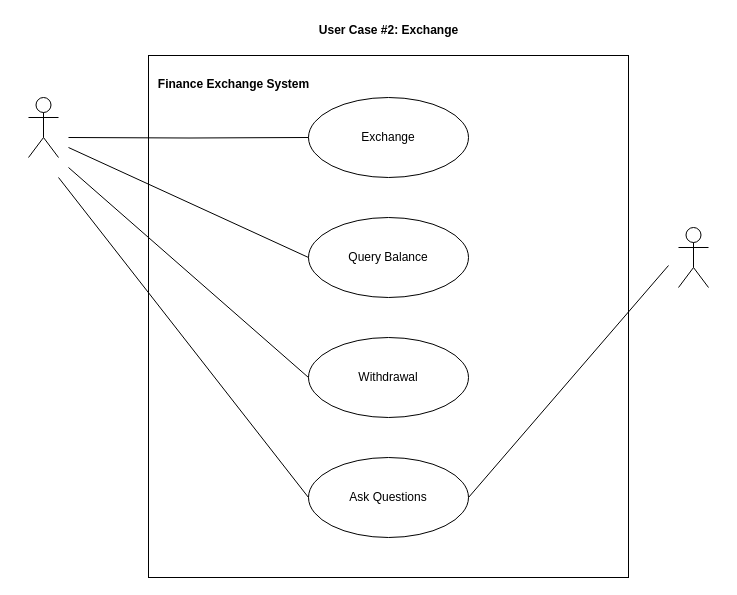
Some shapes in this 737 by 595 pixel diagram are drawn without their labels. The shapes that lost their labels are listed below. From the top down, each one's box as (x1, y1, x2, y2) in pixels, then its label:
(28, 96, 58, 158): Customer
(678, 226, 708, 288): Bank staff
